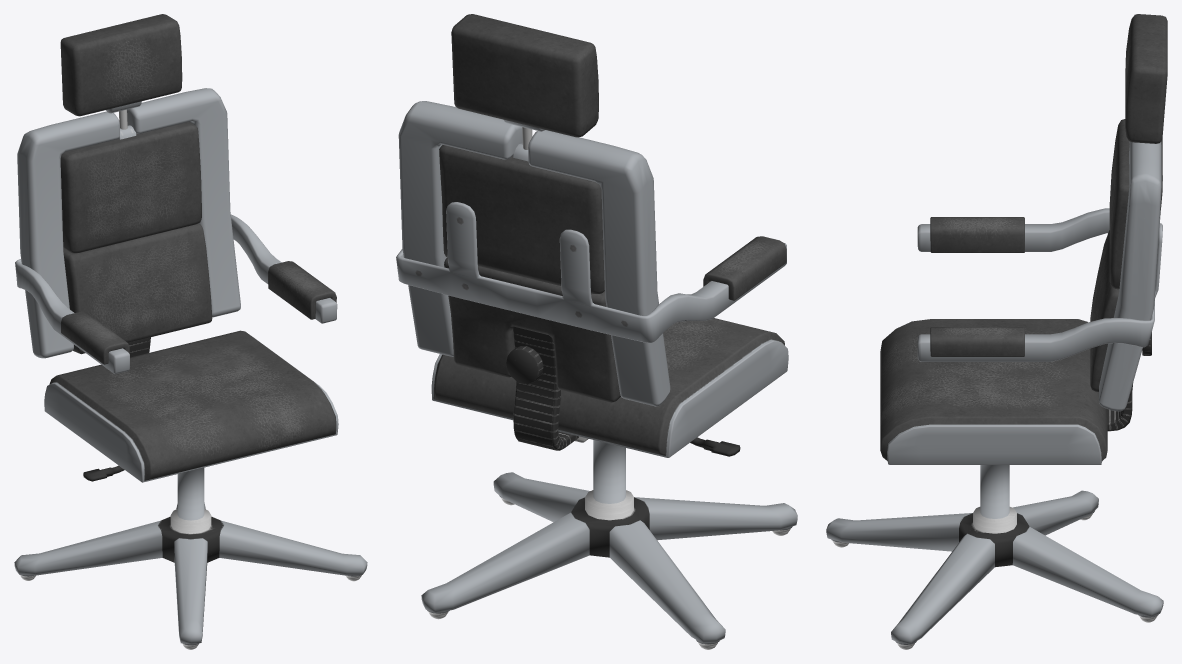
The picture shows the model from 3 angles, left to right: view 1: azimuth 30°, elevation 25°; view 2: azimuth 150°, elevation 25°; view 3: azimuth 270°, elevation 25°; orthographic projection. The views are drawn at different scales.
Visible parts, largest first — view 1: Seat_low, SideBcak_low, Baselow_low, Cush01_low, Cush02_low, HeadRest_low, HandCush_low, HandRest_low; view 2: SideBcak_low, Baselow_low, Seat_low, Cush01_low, HeadRest_low, HandRest_low, Cush02_low, Spine_low, HandCush_low, Turn_low; view 3: Seat_low, Baselow_low, SideBcak_low, HandRest_low, HandCush_low, HeadRest_low, Cush01_low, Cush02_low, Spine_low.
Part boxes in pixels (x1,y1,x2,y2): Seat_low: [44, 330, 338, 482]; SideBcak_low: [17, 88, 240, 358]; Baselow_low: [14, 467, 367, 644]; Cush01_low: [60, 121, 201, 253]; Cush02_low: [63, 223, 212, 354]; HeadRest_low: [60, 14, 182, 116]; HandCush_low: [61, 261, 336, 364]; HandRest_low: [15, 214, 337, 373]; SideBcak_low: [398, 101, 670, 406]; Baselow_low: [421, 440, 797, 643]; Seat_low: [431, 318, 788, 457]; Cush01_low: [439, 145, 604, 293]; HeadRest_low: [451, 14, 598, 137]; HandRest_low: [396, 202, 786, 342]; Cush02_low: [444, 257, 620, 402]; Spine_low: [513, 326, 578, 450]; HandCush_low: [703, 236, 786, 300]; Turn_low: [506, 346, 543, 383]; Seat_low: [880, 319, 1107, 464]; Baselow_low: [826, 465, 1163, 644]; SideBcak_low: [1099, 141, 1161, 411]; HandRest_low: [917, 175, 1162, 361]; HandCush_low: [930, 217, 1024, 356]; HeadRest_low: [1125, 14, 1167, 143]; Cush01_low: [1109, 119, 1162, 289]; Cush02_low: [1090, 230, 1132, 395]; Spine_low: [1107, 392, 1132, 431].
Size of the model in its own units: 7.99 by 14.22 by 8.09.
1 material, 1 textured.
